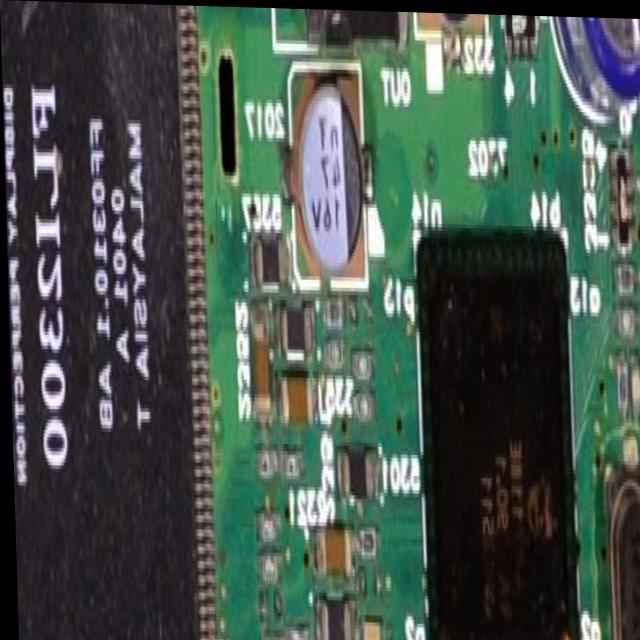IC: (0, 0, 211, 640), (413, 214, 575, 640)
capacitor: (248, 305, 272, 418), (308, 526, 354, 581), (275, 370, 315, 429), (629, 351, 640, 419), (355, 616, 379, 640)
resistor: (614, 345, 628, 419), (348, 344, 373, 381), (612, 299, 638, 334), (611, 261, 637, 296), (352, 527, 378, 561), (350, 388, 375, 423), (319, 293, 344, 328), (253, 443, 274, 484), (255, 552, 280, 586), (276, 447, 300, 481), (324, 338, 346, 374), (254, 506, 275, 537), (283, 621, 305, 640), (259, 635, 281, 640)
transistor: (240, 6, 414, 48)
